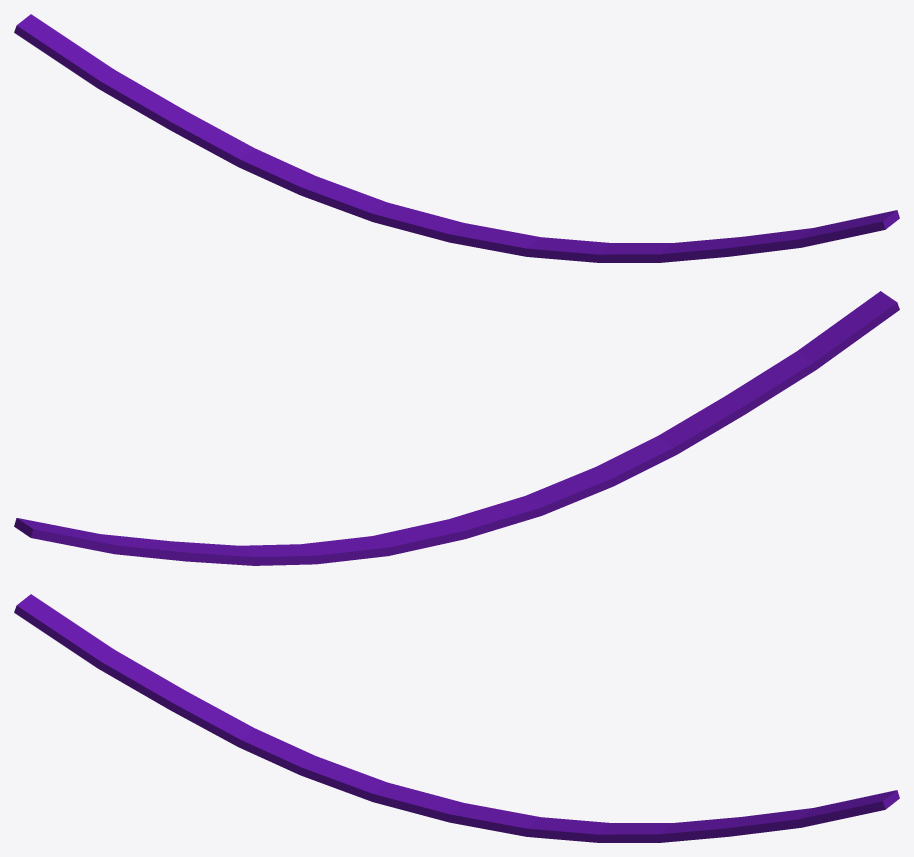
File: Tape_10.fbx
3 renders of one model, top to bottom at view 1: azimuth 90°, elevation 25°; view 2: azimuth 150°, elevation 25°; view 3: azimuth 270°, elevation 25°, orthographic. The views are drawn at different scales.
Visible parts, largest first — view 1: Tape_10; view 2: Tape_10; view 3: Tape_10.
Boxes of the visible parts, left/top/right/bottom form: Tape_10: left=14, top=14, right=899, bottom=262; Tape_10: left=14, top=291, right=899, bottom=565; Tape_10: left=14, top=594, right=899, bottom=842.
Bounding box in the file's own units: 388 × 103 × 696.
